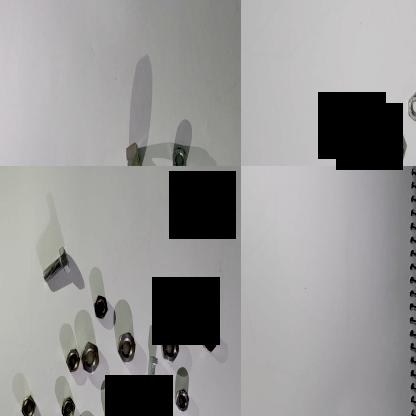Bolts: (39, 238, 71, 288), (144, 352, 160, 410)
NUTS: (380, 125, 406, 166), (118, 131, 146, 166), (79, 340, 100, 376), (115, 330, 135, 367), (160, 328, 180, 364), (170, 132, 189, 166), (200, 323, 220, 355), (172, 386, 190, 416), (64, 343, 80, 375), (93, 290, 108, 322), (58, 392, 76, 416), (100, 397, 118, 416), (19, 394, 34, 416), (408, 95, 416, 121)
